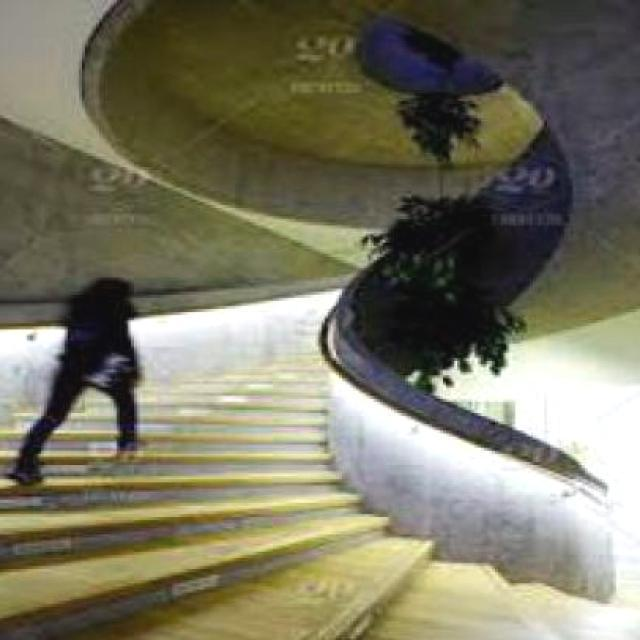stair: (5, 438, 435, 640)
